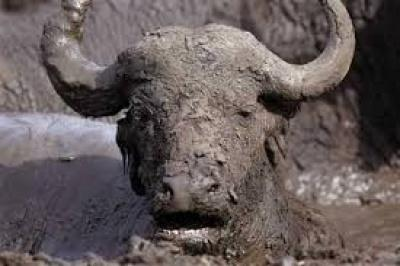buffalo: (0, 0, 354, 265)
